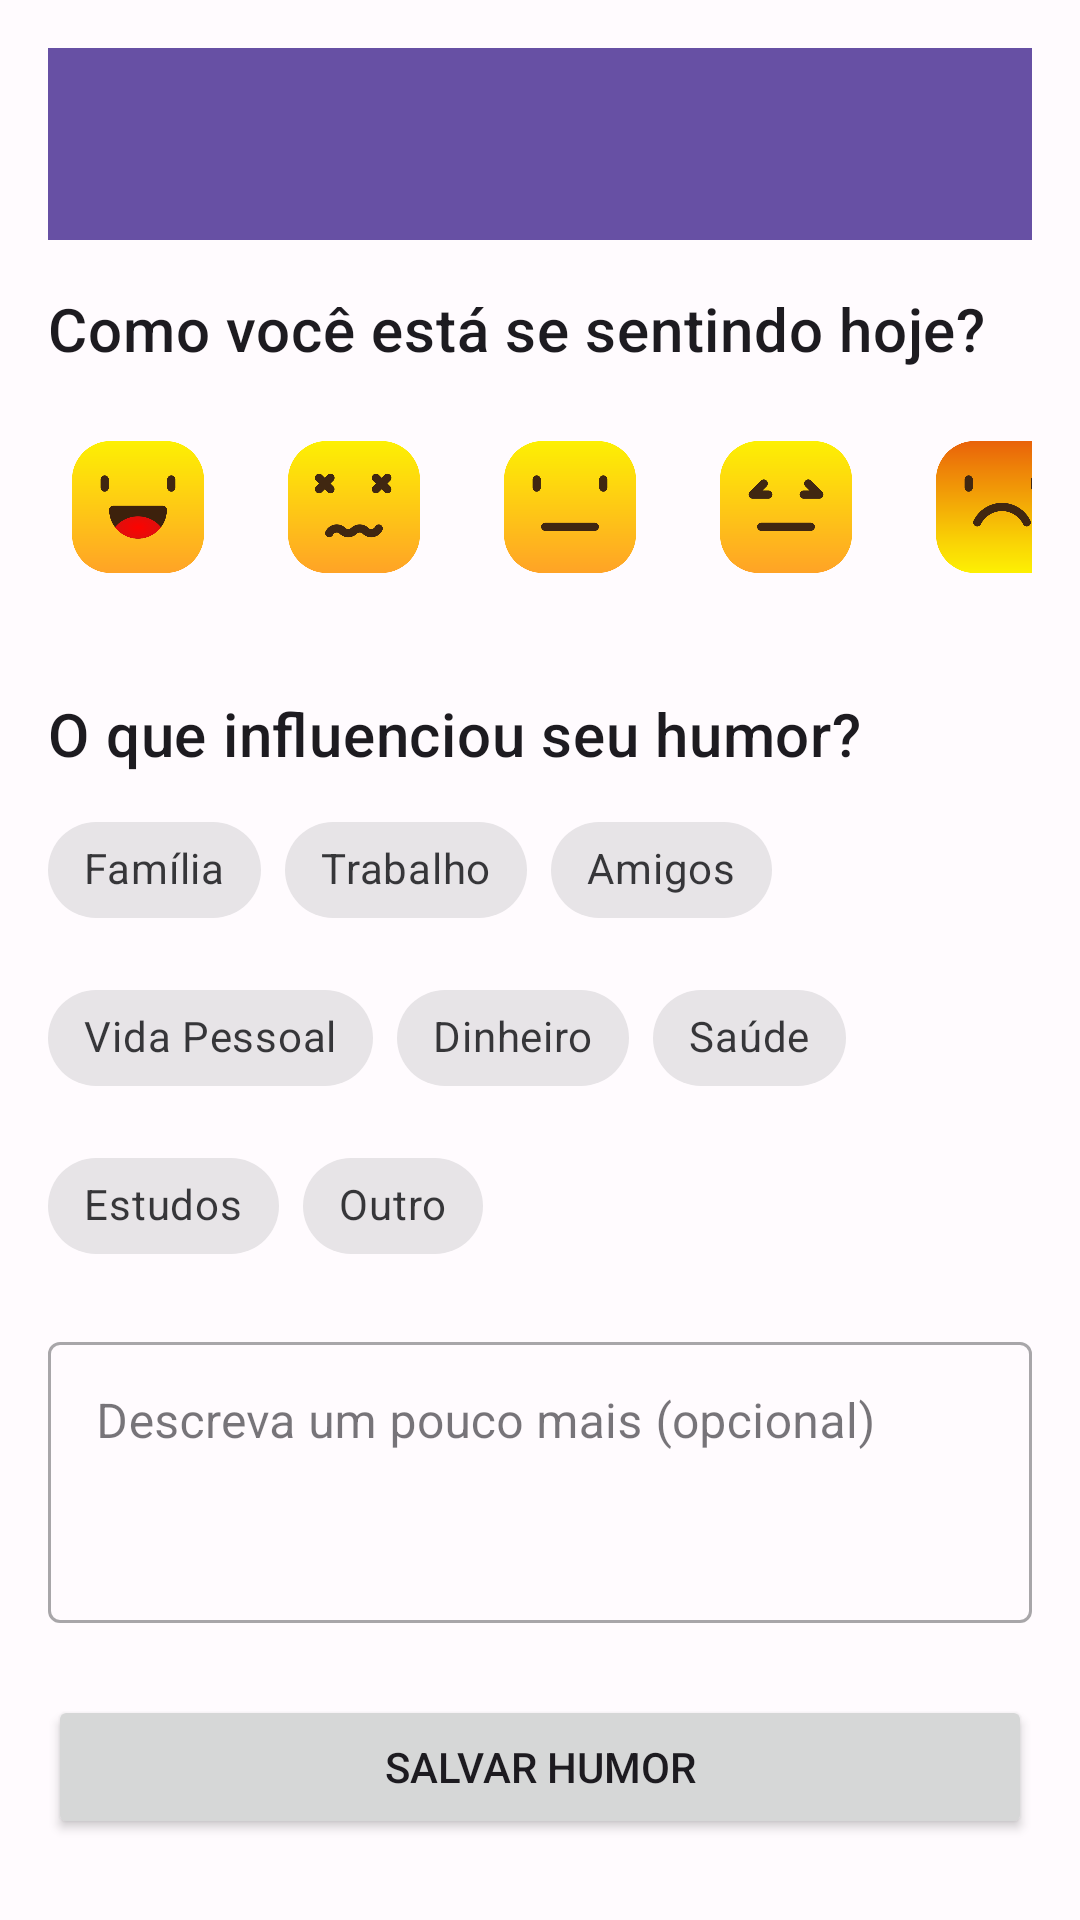

Icon click points for this 1080 x 1920 phone screenshot, format [x,y]:
Emoji Feliz: [138,507]
Emoji Neutro: [570,507]
